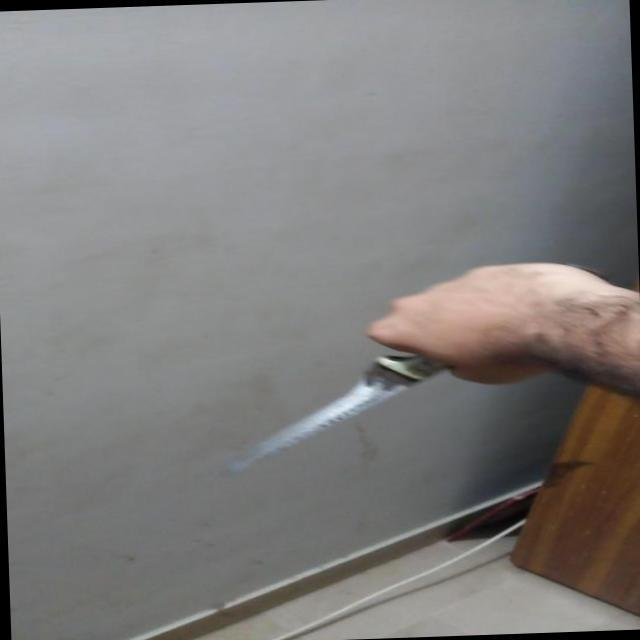Knife: (227, 342, 496, 491)
